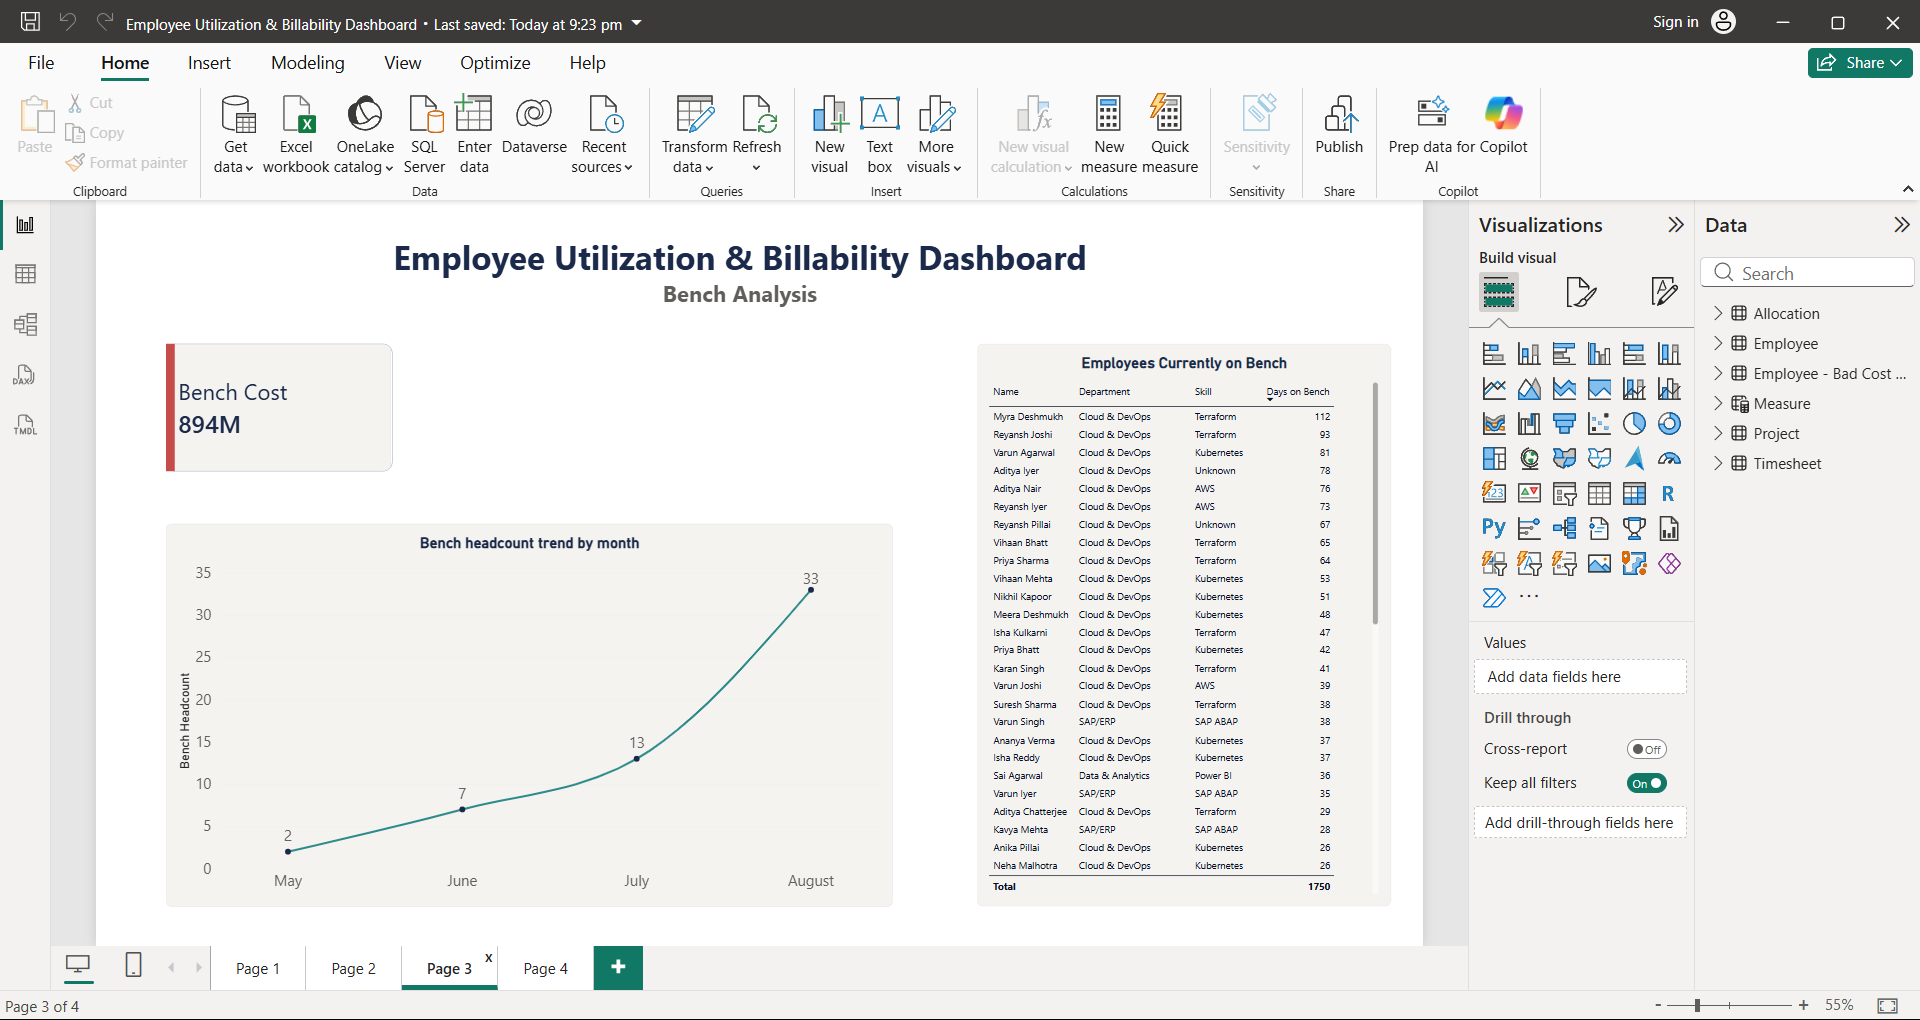

The dashboard page shown, as its layout file describes it:
{"tool":"powerbi","page":{"name":"Page 3","canvas":[1920,1080],"ordinal":2},"visuals":[{"type":"lineChart","title":"Bench headcount trend by month","fields":{"Category":["Allocation.AllocationStartDate.Variation.Date Hierarchy.Month"],"Y":["Measure.Bench Headcount"]},"box":[102,468,1052,554],"z":0},{"type":"textbox","box":[42.6,48.1,1777.8,137],"z":1000},{"type":"tableEx","title":"Employees Currently on Bench","fields":{"Values":["Employee.Name","Employee.Department","Employee.Skill","Measure.Days on Bench"]},"box":[1276,208,598,814],"z":2000},{"type":"cardVisual","fields":{"Data":["Measure.Bench Cost"]},"box":[102,208,327.8,185.2],"z":3000},{"type":"shape","box":[101.3,208.1,12.7,184.6],"z":3001}]}

Visuals, with their boxes on the page's 1920x1080 design canvas (x1, y1, x2, y2). These are canvas units, not pixel positions in the 1920x1020 screenshot, which may show the page scaled, cropped or inside an application window:
"Bench headcount trend by month" lineChart: (102,468,1154,1022)
textbox: (43,48,1820,185)
"Employees Currently on Bench" tableEx: (1276,208,1874,1022)
cardVisual - Measure.Bench Cost: (102,208,430,393)
shape: (101,208,114,393)
